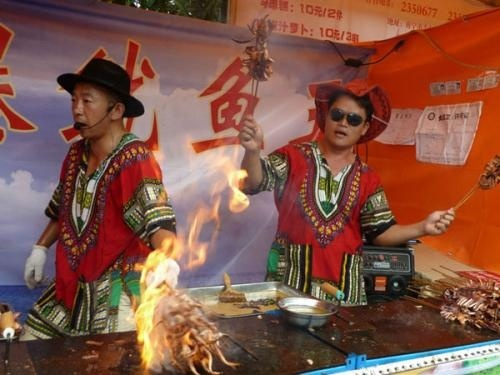fire: (122, 138, 256, 371)
